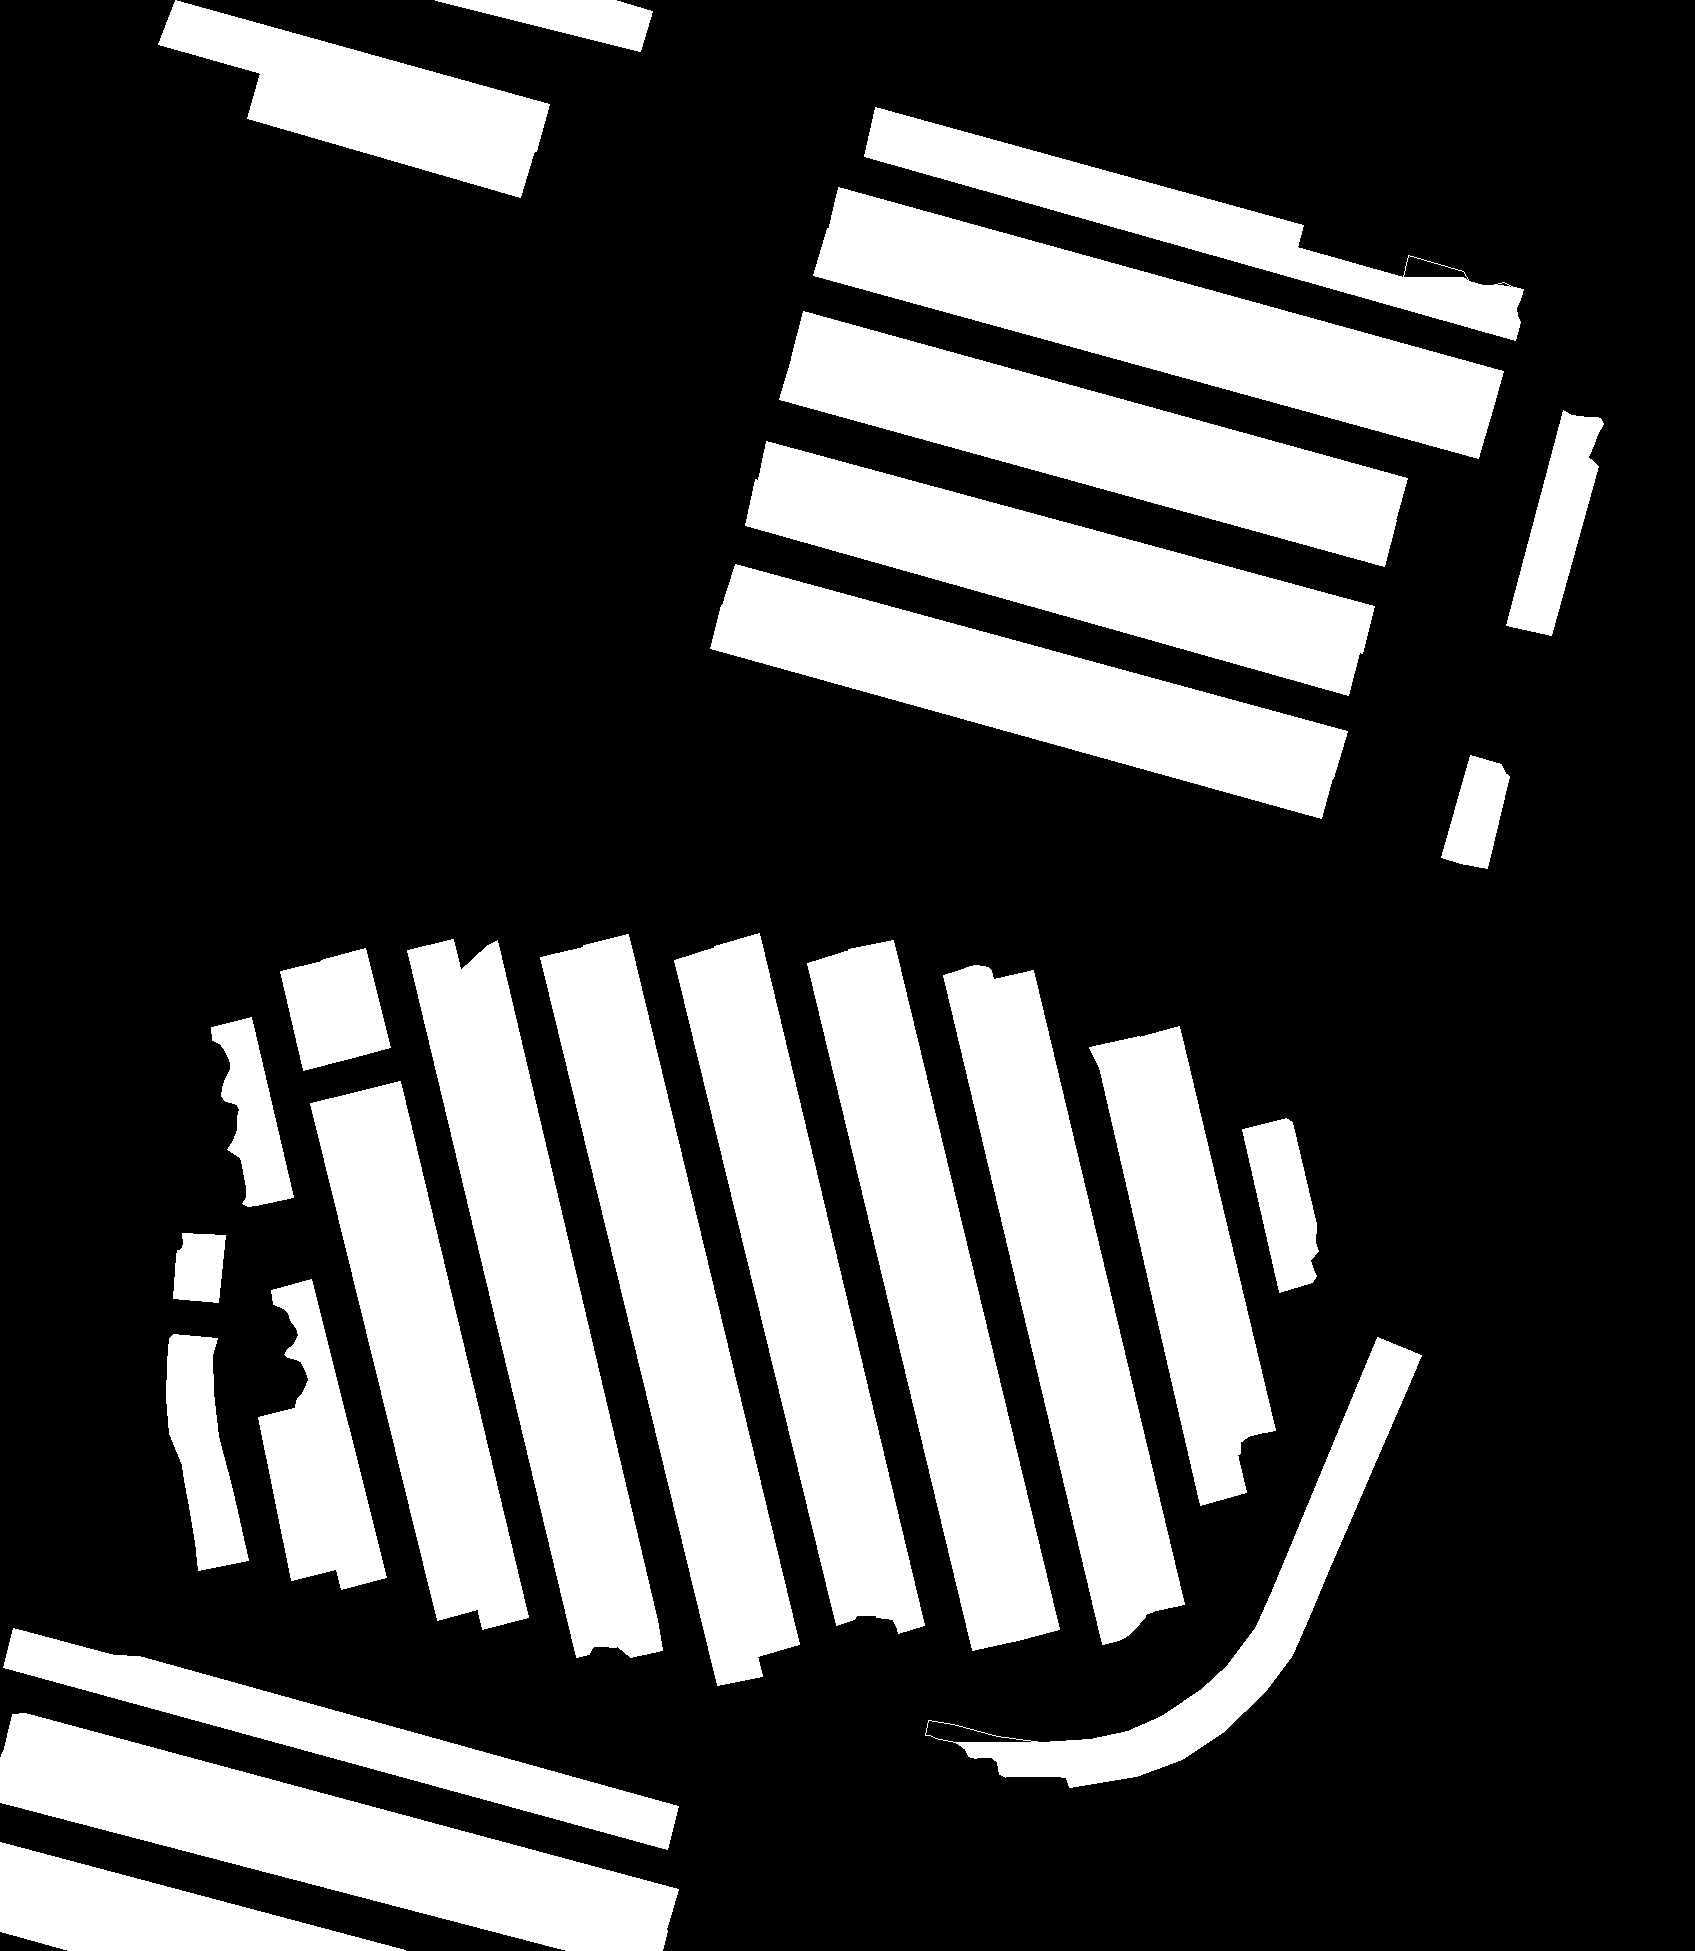parkingspot: (925, 1337, 1421, 1787), (541, 946, 761, 1686), (813, 227, 1491, 458), (406, 939, 624, 1657), (584, 934, 799, 1657), (828, 187, 1503, 416), (864, 106, 1523, 340), (3, 1627, 678, 1850), (847, 941, 1060, 1641), (2, 1714, 678, 1933), (808, 949, 1017, 1651), (715, 932, 924, 1632), (459, 941, 662, 1657), (673, 946, 881, 1624), (944, 966, 1144, 1644), (721, 564, 1347, 778), (0, 1752, 667, 1951), (745, 479, 1360, 695), (710, 606, 1333, 818), (780, 352, 1396, 566), (791, 310, 1406, 524), (756, 441, 1373, 654), (988, 971, 1184, 1616), (355, 1082, 527, 1629), (310, 1092, 481, 1619), (1090, 1035, 1246, 1505), (1134, 1025, 1275, 1457), (158, 0, 549, 151), (0, 1842, 408, 1951), (247, 70, 536, 197), (270, 1279, 386, 1589), (1506, 410, 1604, 635), (166, 1334, 249, 1569), (0, 1885, 252, 1951), (211, 1017, 294, 1206), (259, 1405, 338, 1579), (1242, 1118, 1319, 1292), (435, 0, 652, 51), (1441, 755, 1509, 868), (322, 947, 390, 1058), (280, 961, 348, 1070), (172, 1233, 226, 1302)
